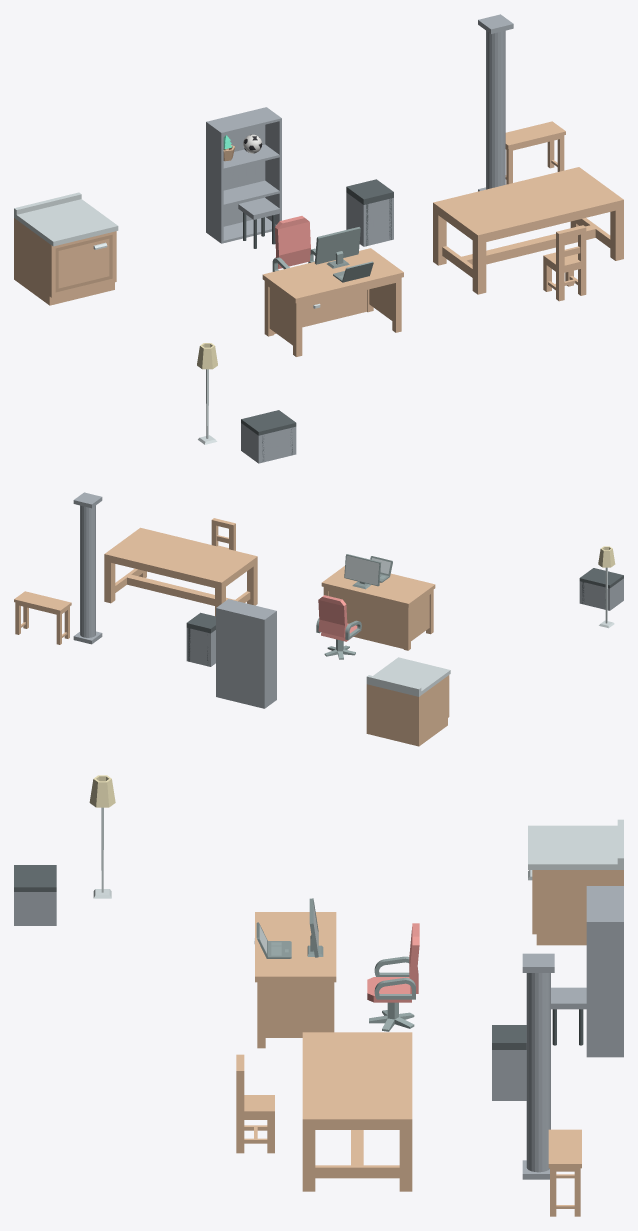
3 renders of one model, top to bottom at view 1: azimuth 30°, elevation 25°; view 2: azimuth 150°, elevation 25°; view 3: azimuth 270°, elevation 25°, orthographic. The views are drawn at different scales.
Visible parts, largest first — view 1: table_green__table(Clone), desk_blue__desk(Clone), cabinet_blue__kitchenCabinet(Clone), column_cyan__column_cyan shaft, cabinet_blue__door, chair_cyan__chair(Clone), shelf_orange__shelf_orange side_l, shelf_orange__shelf_orange back, bin_gray__bin_gray shell, sidetable_brown__sideTable(Clone), deskchair_black__chair, crate_red__crate_red shell (+10 smaller); view 2: table_green__table(Clone), cabinet_blue__kitchenCabinet(Clone), desk_blue__desk(Clone), shelf_orange__shelf_orange back, column_cyan__column_cyan shaft, sidetable_brown__sideTable(Clone), deskchair_black__chair, shelf_orange__shelf_orange side_l, bin_gray__bin_gray shell, crate_red__crate_red shell, monitor_gray__computerScreen(Clone), chair_cyan__chair(Clone) (+4 smaller); view 3: table_green__table(Clone), cabinet_blue__kitchenCabinet(Clone), desk_blue__desk(Clone), shelf_orange__shelf_orange side_r, column_cyan__column_cyan shaft, sidetable_brown__sideTable(Clone), deskchair_black__chair, chair_cyan__chair(Clone), bin_gray__bin_gray shell, crate_red__crate_red shell, shelf_orange__shelf_orange board3, crate_red__crate_red lid (+6 smaller).
Boxes of the visible parts, <box> form: table_green__table(Clone): <box>433,167,623,294</box>; desk_blue__desk(Clone): <box>262,248,403,356</box>; cabinet_blue__kitchenCabinet(Clone): <box>14,192,118,305</box>; column_cyan__column_cyan shaft: <box>486,30,505,189</box>; cabinet_blue__door: <box>55,234,112,292</box>; chair_cyan__chair(Clone): <box>543,225,586,301</box>; shelf_orange__shelf_orange side_l: <box>206,121,223,243</box>; shelf_orange__shelf_orange back: <box>209,107,265,226</box>; bin_gray__bin_gray shell: <box>346,192,393,246</box>; sidetable_brown__sideTable(Clone): <box>505,121,565,184</box>; deskchair_black__chair: <box>272,216,315,271</box>; crate_red__crate_red shell: <box>241,423,296,463</box>; table_green__table(Clone): <box>104,527,257,616</box>; cabinet_blue__kitchenCabinet(Clone): <box>366,657,450,746</box>; desk_blue__desk(Clone): <box>321,566,435,650</box>; shelf_orange__shelf_orange back: <box>218,608,262,708</box>; column_cyan__column_cyan shaft: <box>80,505,95,637</box>; sidetable_brown__sideTable(Clone): <box>14,591,71,644</box>; deskchair_black__chair: <box>316,595,361,641</box>; shelf_orange__shelf_orange side_l: <box>263,610,276,708</box>; bin_gray__bin_gray shell: <box>186,627,215,666</box>; crate_red__crate_red shell: <box>579,578,623,610</box>; monitor_gray__computerScreen(Clone): <box>344,554,381,589</box>; chair_cyan__chair(Clone): <box>211,518,235,550</box>; table_green__table(Clone): <box>302,1032,412,1191</box>; cabinet_blue__kitchenCabinet(Clone): <box>528,819,623,945</box>; desk_blue__desk(Clone): <box>255,912,336,1048</box>; shelf_orange__shelf_orange side_r: <box>586,920,623,1057</box>; column_cyan__column_cyan shaft: <box>526,973,550,1172</box>; sidetable_brown__sideTable(Clone): <box>548,1129,581,1216</box>; deskchair_black__chair: <box>367,923,419,1002</box>; chair_cyan__chair(Clone): <box>236,1054,274,1153</box>; bin_gray__bin_gray shell: <box>492,1050,526,1100</box>; crate_red__crate_red shell: <box>14,892,56,925</box>; shelf_orange__shelf_orange board3: <box>586,887,621,920</box>; crate_red__crate_red lid: <box>14,865,56,891</box>.
Size of the model in its own units: 7.26 by 2.2 by 5.72.
